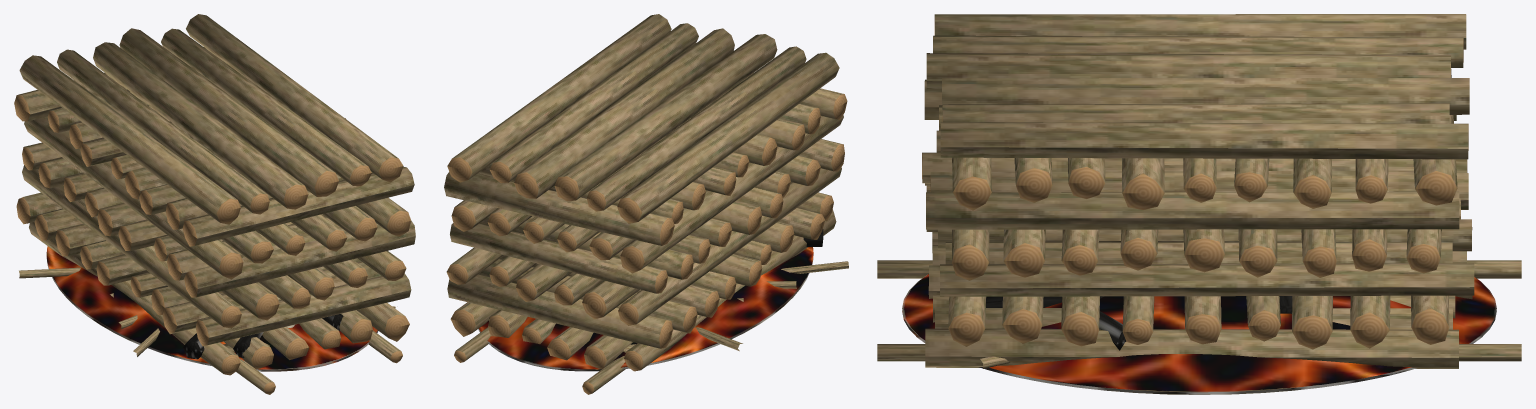
Rendered from funeral.glb.
3 renders of one model, left to right at view 1: azimuth 30°, elevation 25°; view 2: azimuth 150°, elevation 25°; view 3: azimuth 270°, elevation 25°, orthographic. The views are drawn at different scales.
Visible parts, largest first — view 1: pyre, embers, remains, bier; view 2: pyre, embers, bier, remains; view 3: pyre, embers, bier, remains.
Boxes of the visible parts, x1,y1,x2,y2 form: pyre: [14, 14, 415, 375]; embers: [46, 246, 377, 369]; remains: [46, 257, 378, 371]; bier: [223, 324, 402, 394]; pyre: [444, 14, 848, 371]; embers: [479, 247, 813, 369]; bier: [454, 209, 833, 394]; remains: [478, 229, 823, 371]; pyre: [922, 14, 1474, 368]; embers: [902, 274, 1496, 392]; bier: [877, 260, 1521, 361]; remains: [902, 296, 1496, 394].
Size of the model in its own units: 1.73 by 1.13 by 2.6.
2 materials, 2 textured.
